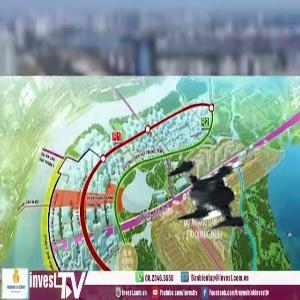drone: (154, 121, 295, 262)
